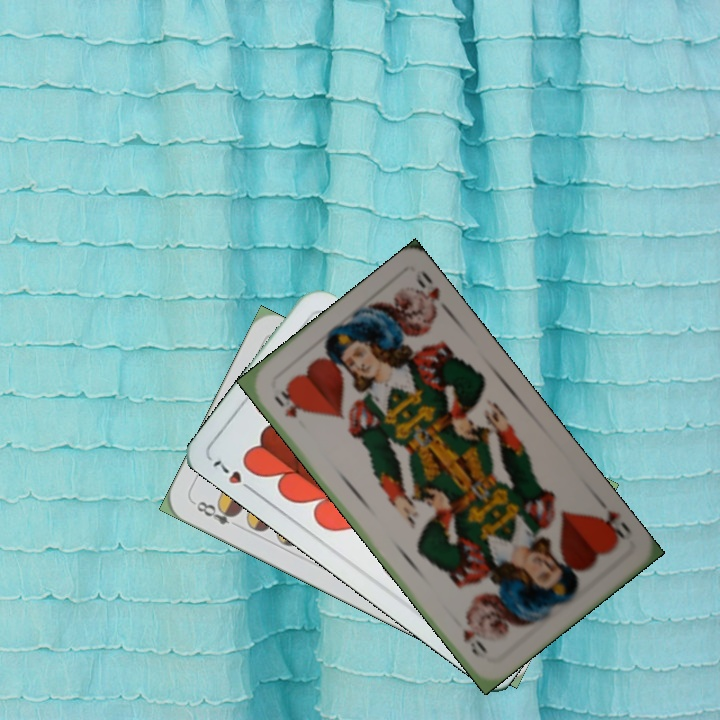E8: (189, 496, 241, 528)
H7: (209, 456, 258, 496)
HO: (591, 495, 635, 548), (269, 386, 302, 420)
